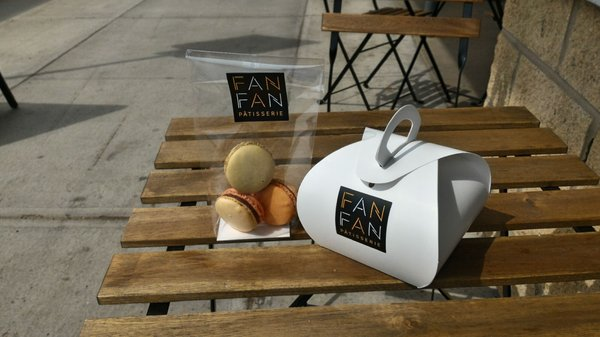taco: (223, 142, 274, 194)
